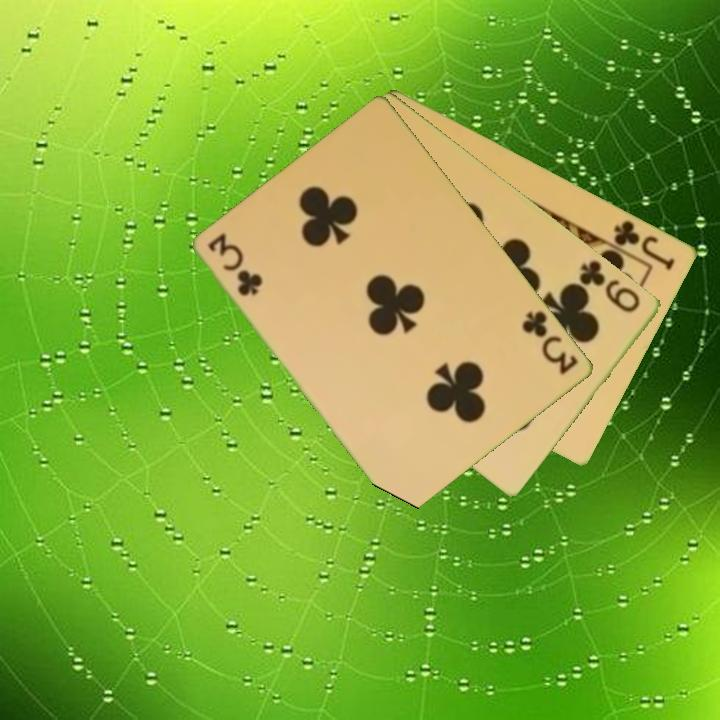3c: (519, 307, 581, 378), (205, 230, 266, 299)
9c: (576, 256, 644, 316)
Jc: (610, 216, 679, 273)
